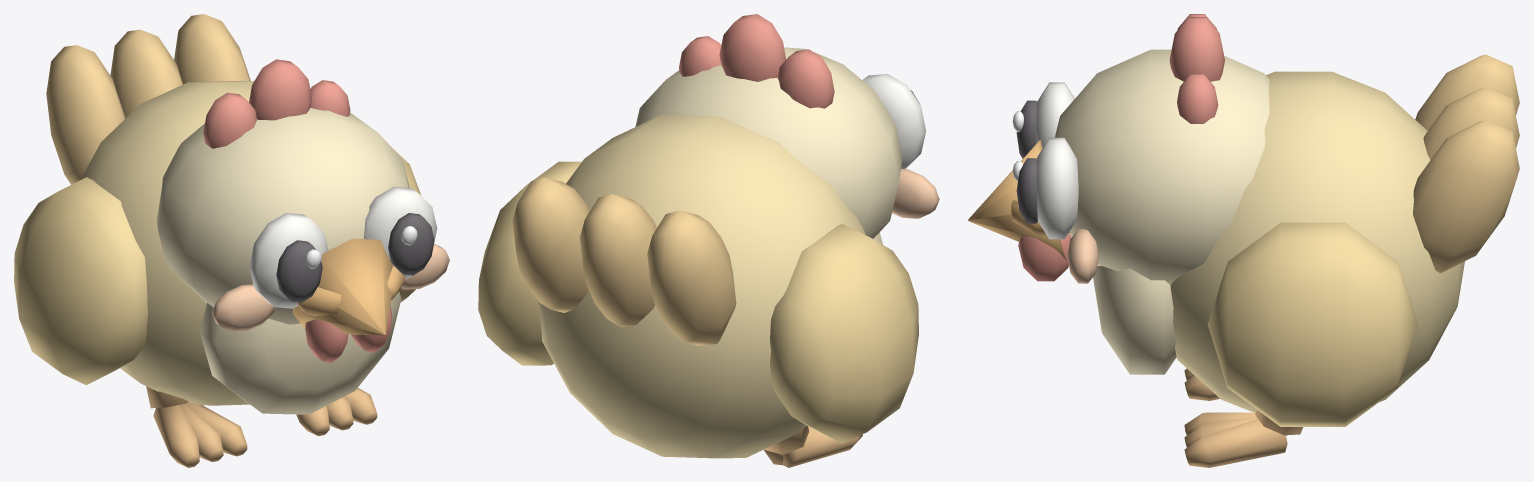
The model's file is kip.glb.
3 views of the same model, side by side, from view 1: azimuth 30°, elevation 25°; view 2: azimuth 150°, elevation 25°; view 3: azimuth 270°, elevation 25° (orthographic). The views are drawn at different scales.
Visible parts, largest first — view 1: kip; view 2: kip; view 3: kip.
Part boxes in pixels (x1,y1,x2,y2): kip: [14, 14, 449, 467]; kip: [478, 14, 939, 467]; kip: [968, 14, 1519, 467].
Bounding box in the file's own units: 0.5148 × 0.5 × 0.6203.
